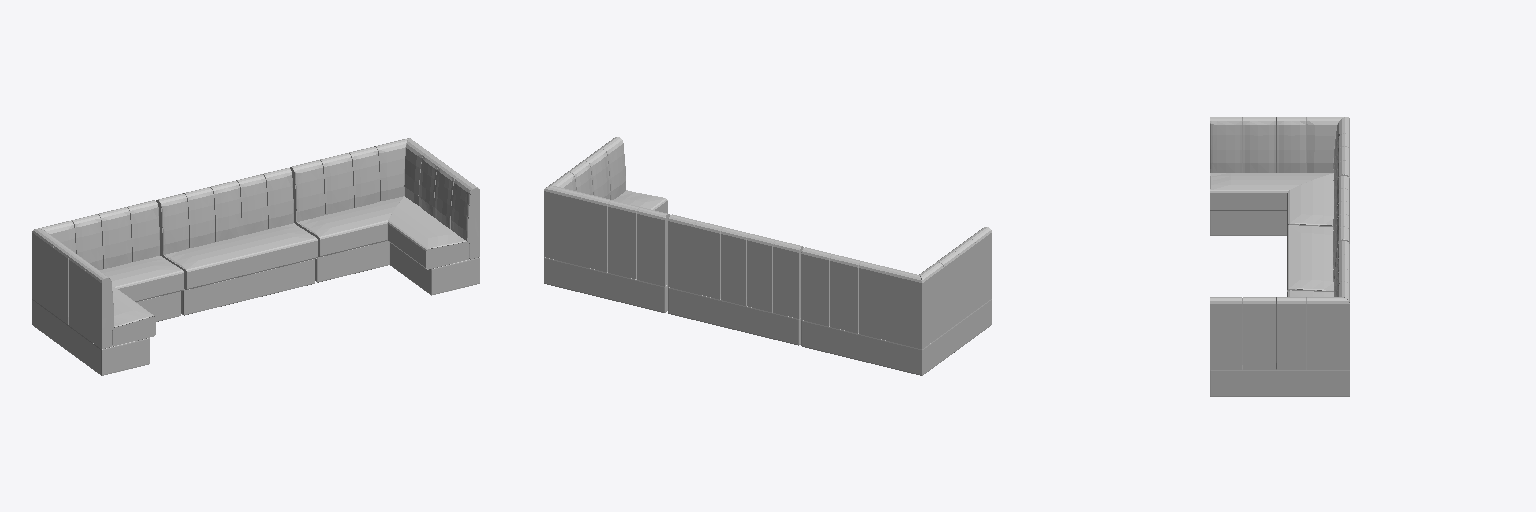
The model's file is sofa_chair_.obj.
The picture shows the model from 3 angles: view 1: azimuth 30°, elevation 25°; view 2: azimuth 150°, elevation 25°; view 3: azimuth 270°, elevation 25°; orthographic projection.
Parts seen in each view (by area): view 1: Plane_006, Plane_013, Plane_012; view 2: Plane_013, Plane_006, Plane_012; view 3: Plane_013, Plane_006, Plane_012.
Part boxes in pixels (x1,y1,x2,y2): Plane_006: (290, 138, 479, 295); Plane_013: (32, 200, 183, 375); Plane_012: (156, 168, 317, 315); Plane_013: (801, 227, 991, 375); Plane_006: (544, 137, 669, 312); Plane_012: (668, 214, 803, 345); Plane_013: (1210, 117, 1349, 243); Plane_006: (1210, 241, 1349, 396); Plane_012: (1287, 176, 1348, 291).
Bounding box in the file's own units: 3915 × 960 × 1254.